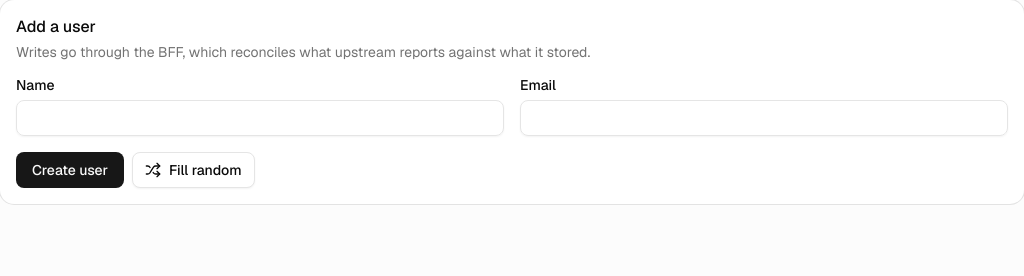
Scenario: creating a user › does not claim a record was not created when it does not know
This screenshot has width=1024, height=276.
Type "Grace" into the field labelled "Name" at (260,118), box x1=16 y1=100 x2=504 y2=136
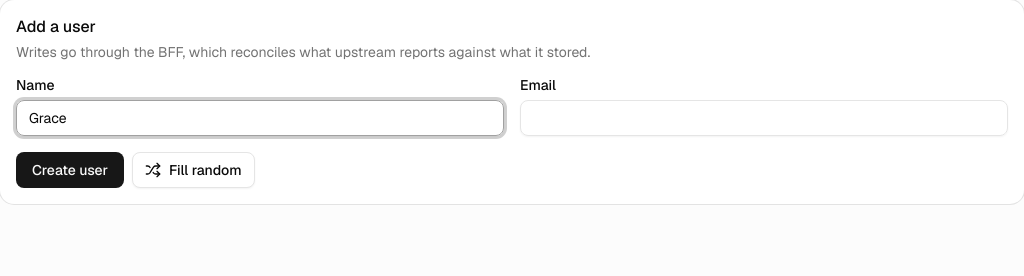
Type "grace@example.com" into the field labelled "Email" at (764,118), box x1=520 y1=100 x2=1008 y2=136
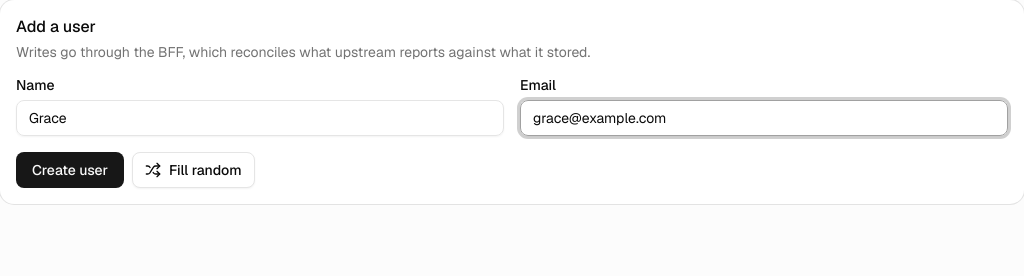
Click the button "Create user" at (70,170), box x1=16 y1=152 x2=124 y2=188
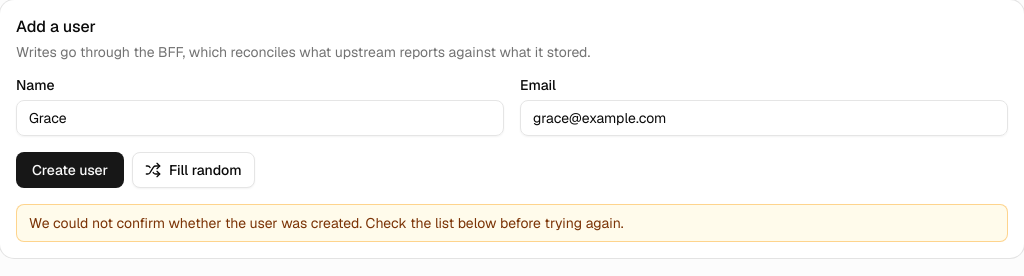
Expected: the message does not show "safe to try again", x1=16 y1=204 x2=1008 y2=242
Expected: the message shows "could not confirm", x1=29 y1=214 x2=624 y2=232
Expected: the message shows "Check the list below before trying again", x1=29 y1=214 x2=624 y2=232
